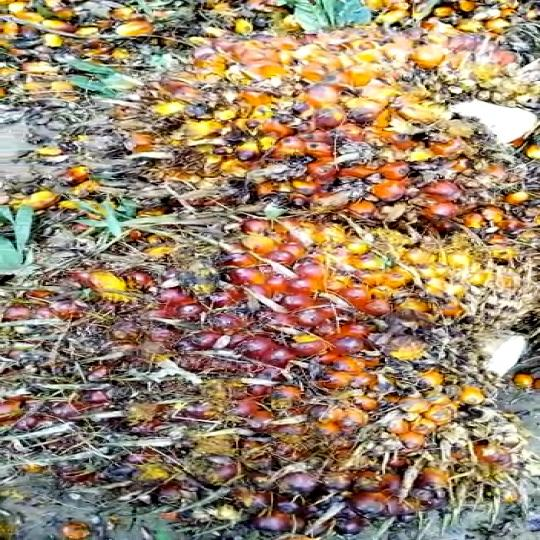masak: (0, 223, 540, 529), (0, 26, 540, 242)
